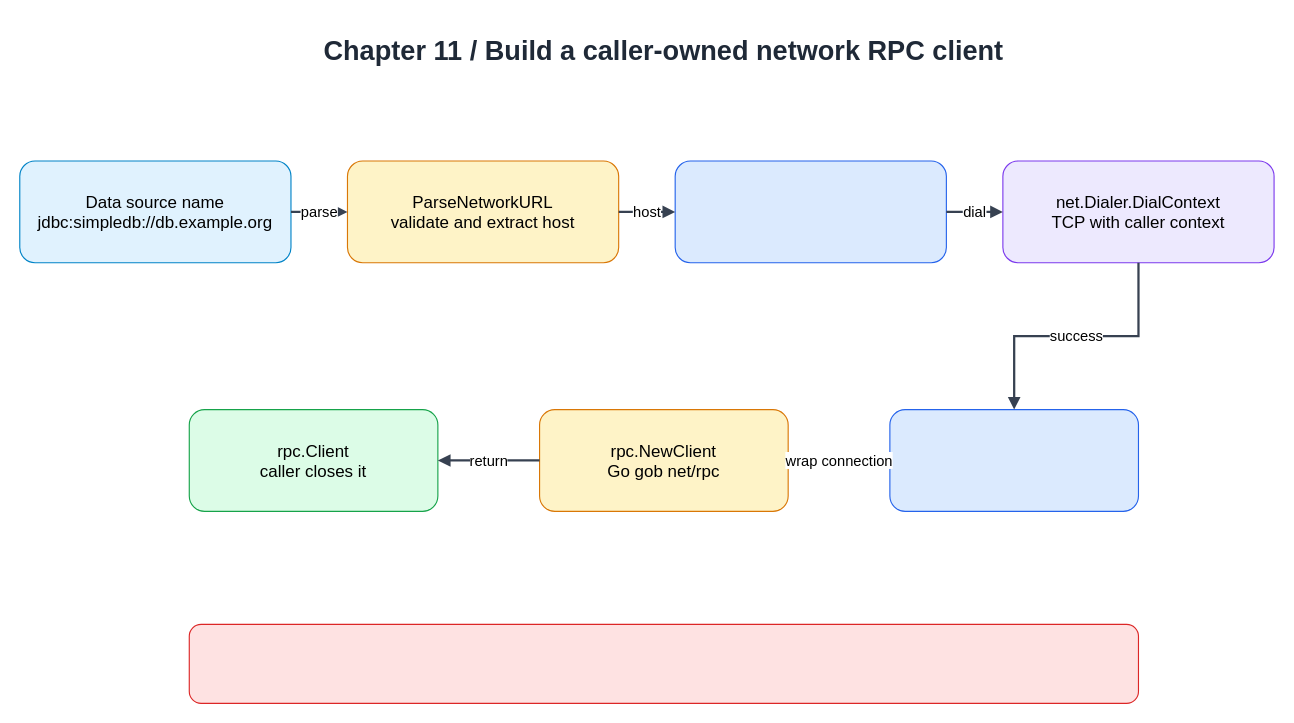
This 1294x723 diagram has some shape labels left out. Each missing label, with the centre of its shape:
"net.Conn owned by the RPC client" goes at pixel 1013 459.
"net.JoinHostPort db.example.org:1099" goes at pixel 810 211.
"No RPC request or database session starts here. Go net/rpc is not Java RMI." goes at pixel 663 663.
